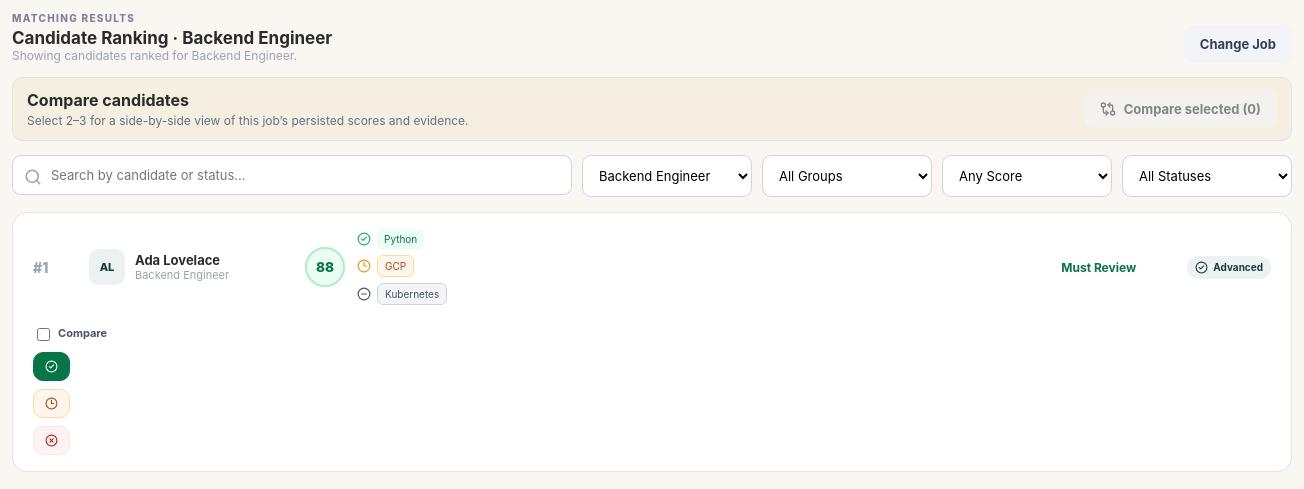
Test: MatchingResults filters › switches job and scopes to the newly selected job
Expected: the text "Ada Lovelace" is shown, x1=135 y1=252 x2=229 y2=268
Expected: the text "Linus Pauling" is not shown
// Switch job via job select
Select "Data Engineer" in the dropdown named "filter results by job": [667, 176] box x1=582 y1=155 x2=752 y2=197
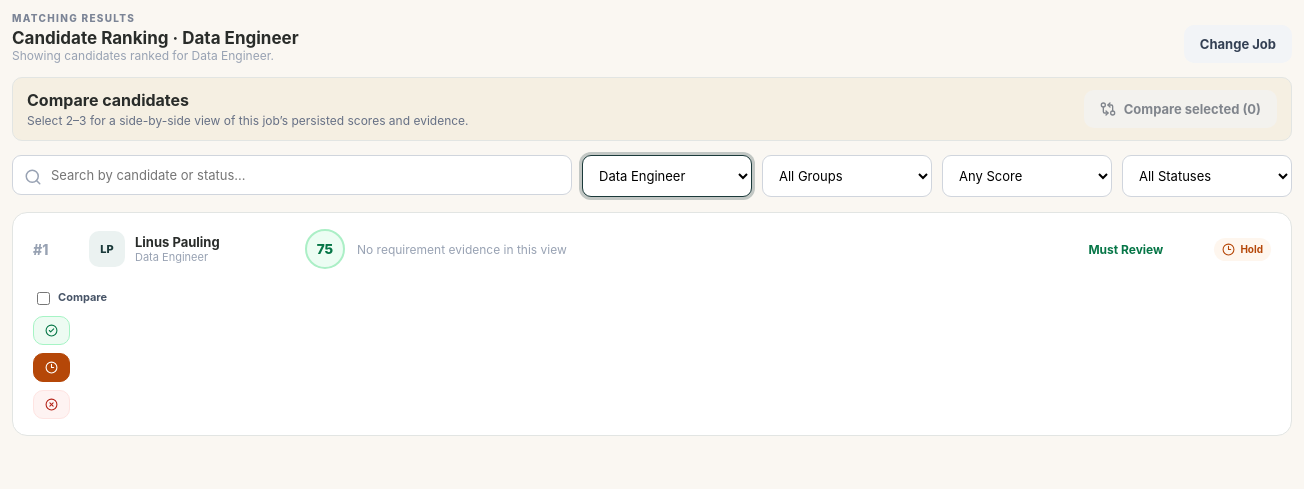
Result: the link "Ada Lovelace" is gone
Result: the text "Linus Pauling" is shown at x1=135 y1=234 x2=220 y2=250
